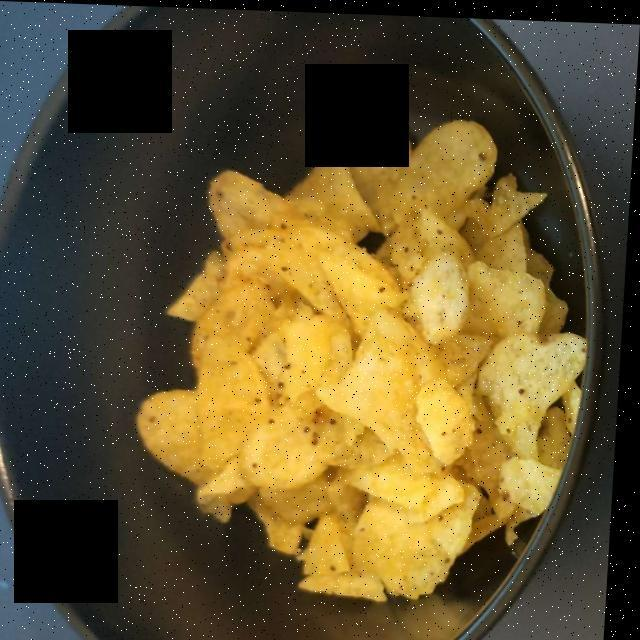crisps: (150, 125, 584, 592)
